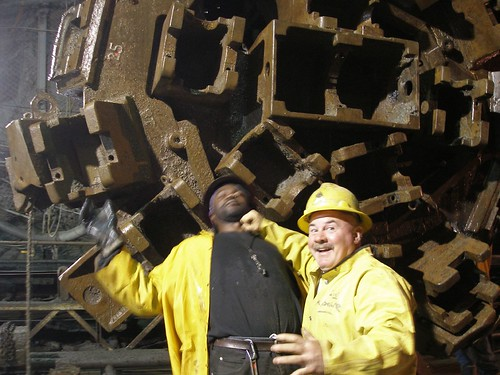person hardhat: (99, 179, 316, 375), (286, 183, 423, 375)
